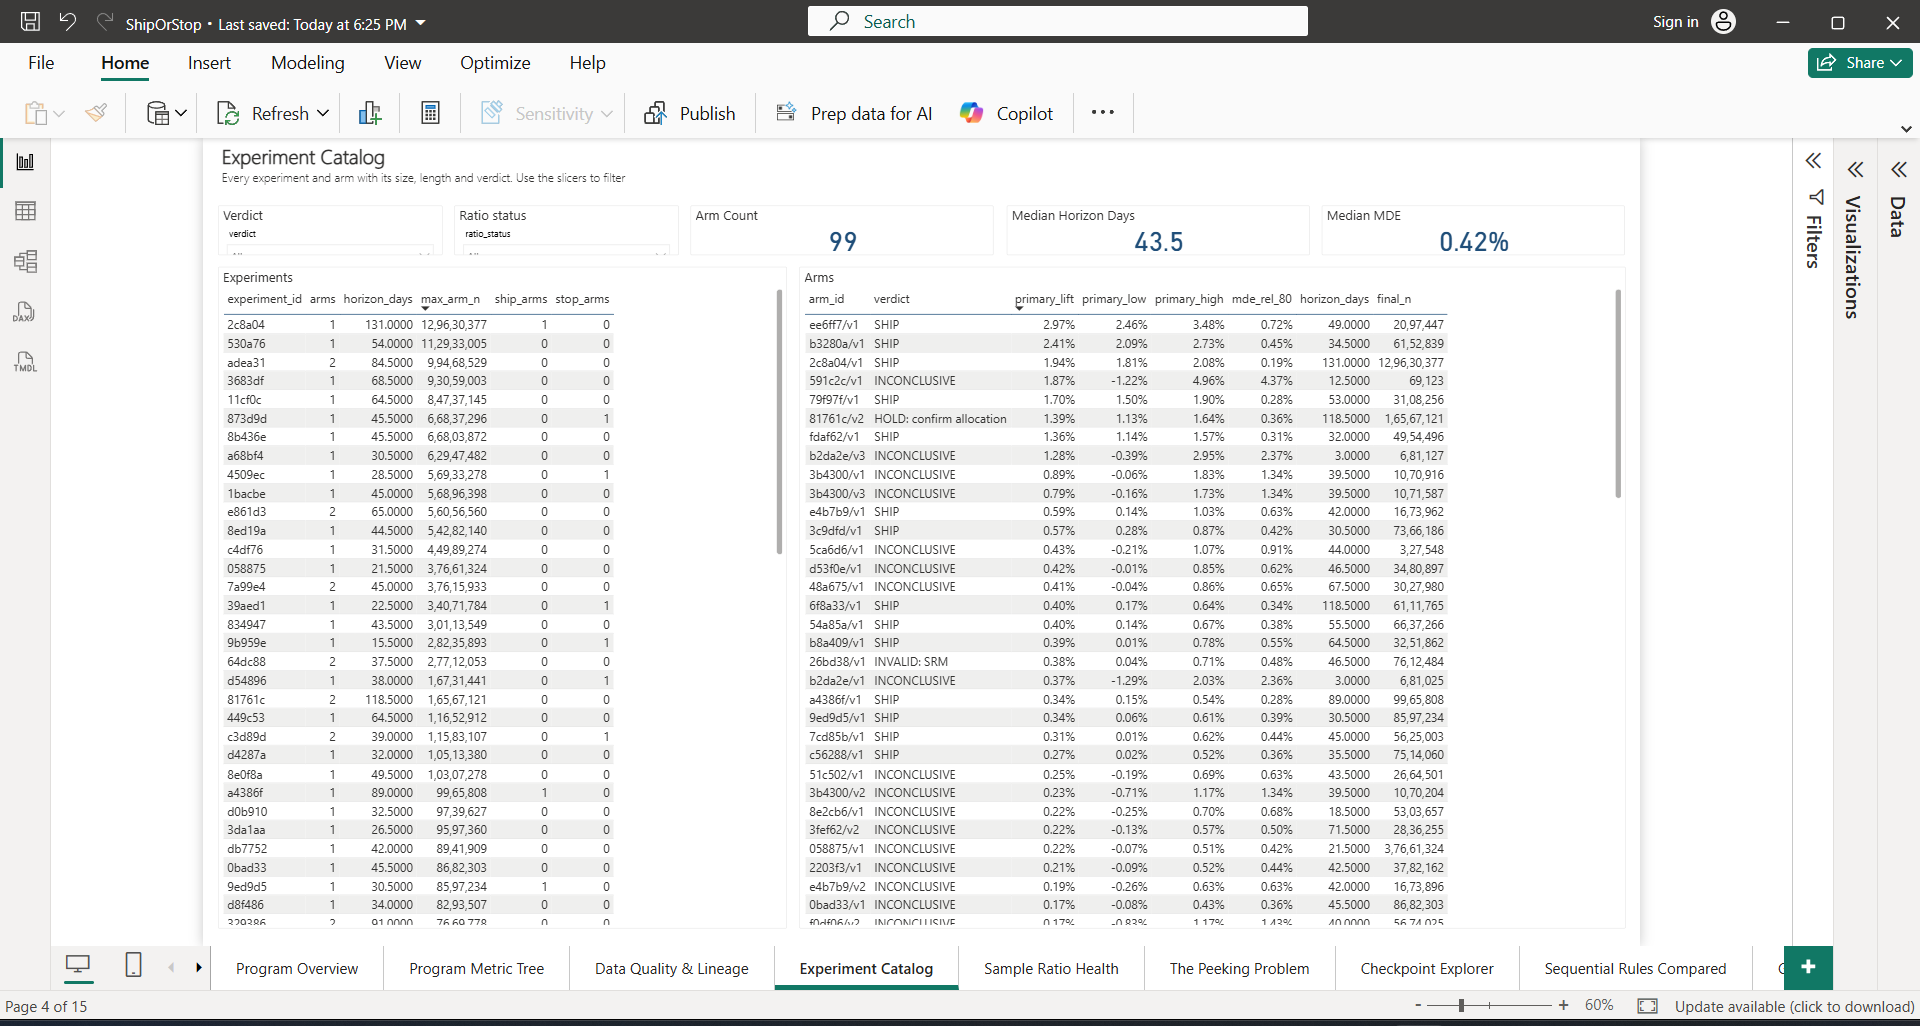

The page's visual inventory and layout, read from the dashboard file:
{"tool":"powerbi","page":{"name":"Experiment Catalog","canvas":[1920,1080],"ordinal":3},"visuals":[{"type":"textbox","box":[20,2,1880,86],"z":0},{"type":"slicer","title":"Verdict","fields":{"Values":["arms.verdict"]},"box":[20,90,300,66],"z":1000},{"type":"slicer","title":"Ratio status","fields":{"Values":["arms.ratio_status"]},"box":[336,90,300,66],"z":2000},{"type":"card","title":"Arm Count","fields":{"Values":["_Measures.Arm Count"]},"box":[652,90,405,66],"z":3000},{"type":"card","title":"Median Horizon Days","fields":{"Values":["_Measures.Median Horizon Days"]},"box":[1073,90,405,66],"z":4000},{"type":"card","title":"Median MDE","fields":{"Values":["_Measures.Median MDE"]},"box":[1494,90,405,66],"z":5000},{"type":"tableEx","title":"Experiments","fields":{"Values":["experiments.experiment_id","experiments.arms","experiments.horizon_days","experiments.max_arm_n","experiments.ship_arms","experiments.stop_arms"]},"box":[20,172,760,884],"z":6000},{"type":"tableEx","title":"Arms","fields":{"Values":["arms.arm_id","arms.verdict","arms.primary_lift","arms.primary_low","arms.primary_high","arms.mde_rel_80","arms.horizon_days","arms.final_n"]},"box":[796,172,1104,884],"z":7000}]}

Visuals, with their boxes on the page's 1920x1080 design canvas (x1, y1, x2, y2). These are canvas units, not pixel positions in the 1920x1026 screenshot, which may show the page scaled, cropped or inside an application window:
textbox: select_region(20, 2, 1900, 88)
"Verdict" slicer: select_region(20, 90, 320, 156)
"Ratio status" slicer: select_region(336, 90, 636, 156)
"Arm Count" card: select_region(652, 90, 1057, 156)
"Median Horizon Days" card: select_region(1073, 90, 1478, 156)
"Median MDE" card: select_region(1494, 90, 1899, 156)
"Experiments" tableEx: select_region(20, 172, 780, 1056)
"Arms" tableEx: select_region(796, 172, 1900, 1056)
